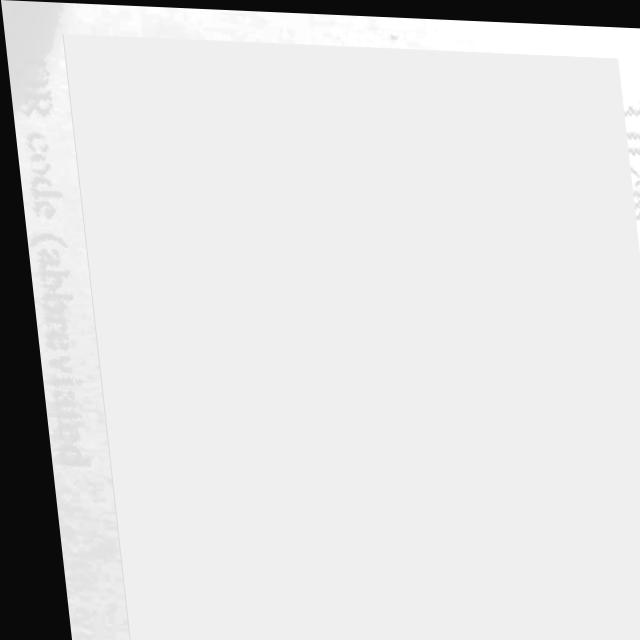qr_code: (62, 33, 640, 640)
